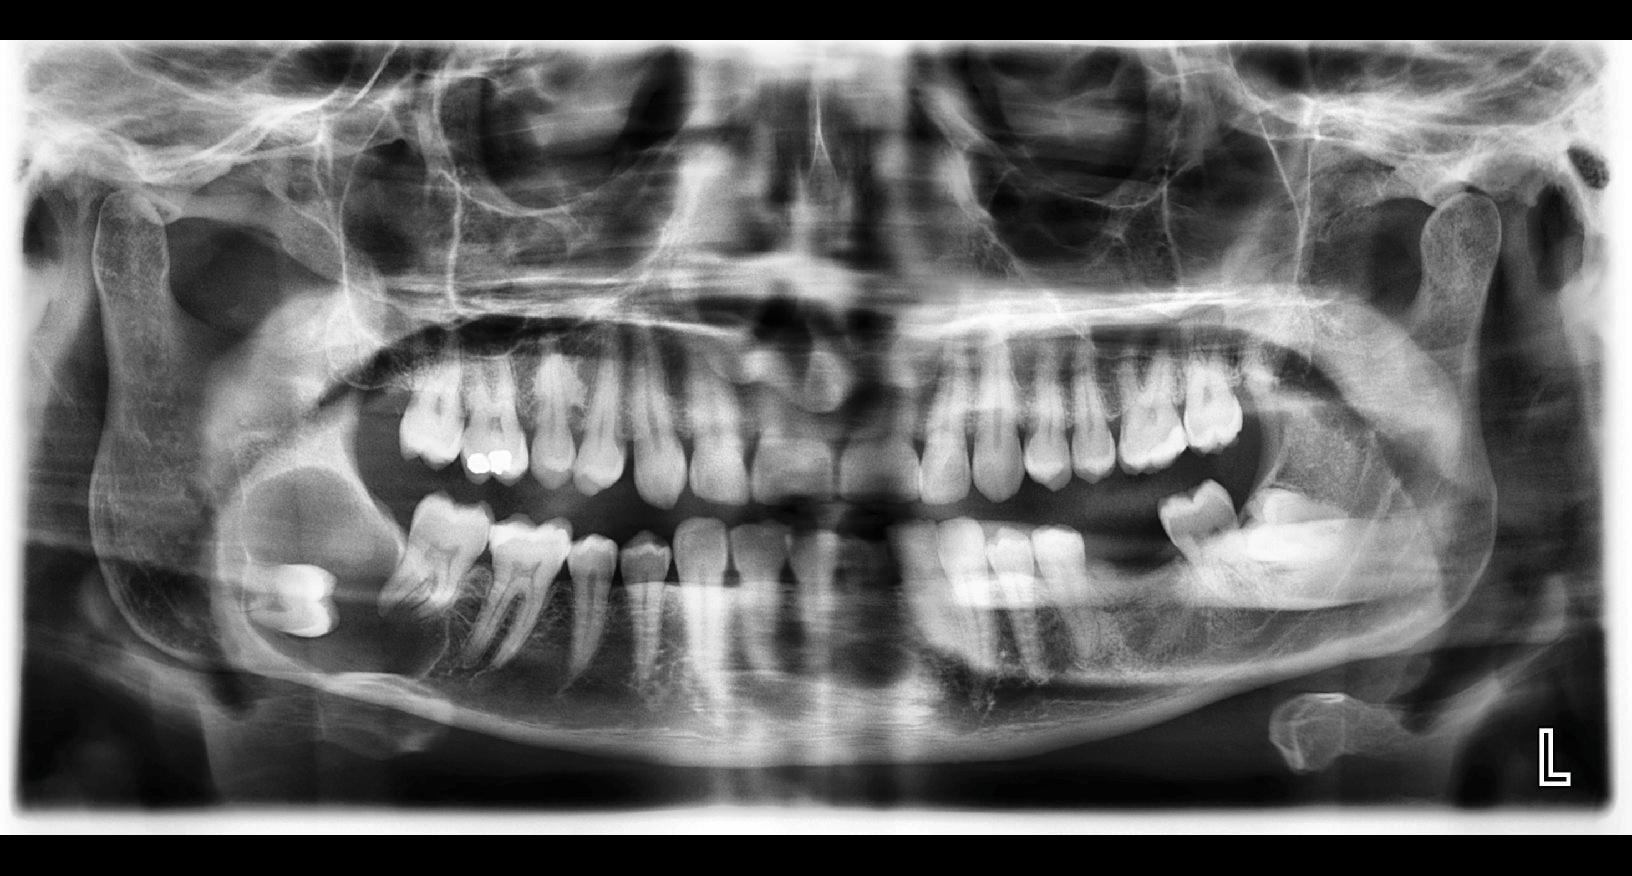dentigeroz: (236, 463, 450, 683)
